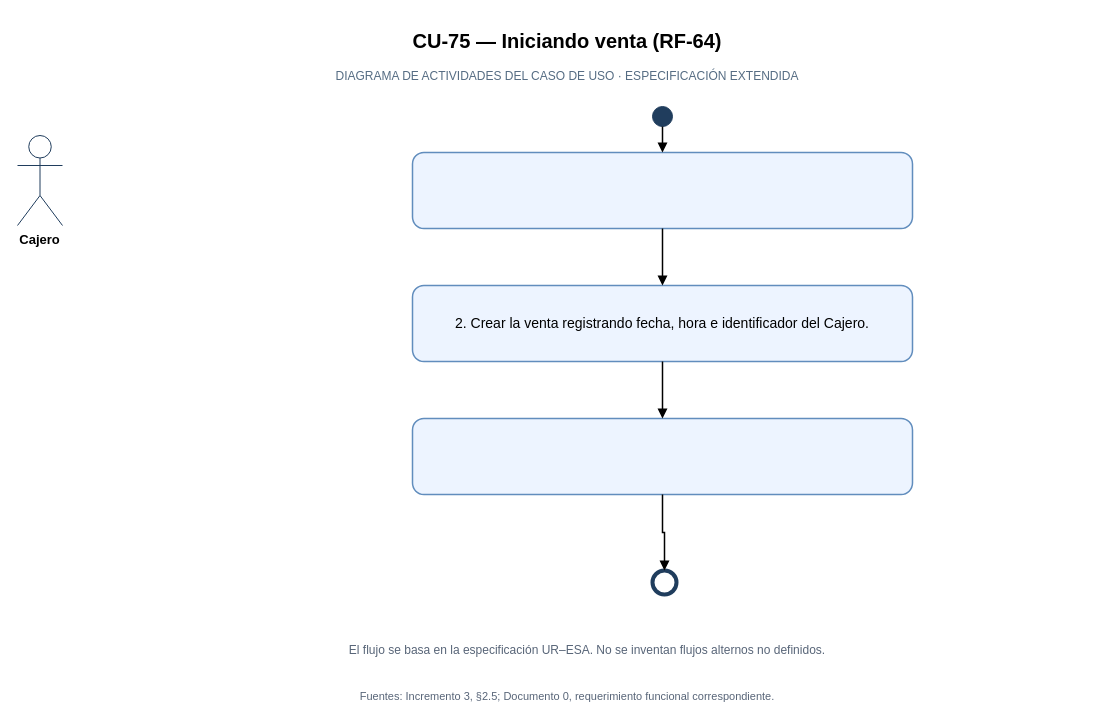
Image size: 1105x725. Some labels were removed from this diagram. The centre of each missing label's shape, as x and y in pixels:
"1. Seleccionar la opción para iniciar una nueva venta." goes at pixel 662 190.
"3. Dejar la venta en curso, lista para agregar productos (CU-76)." goes at pixel 662 456.
